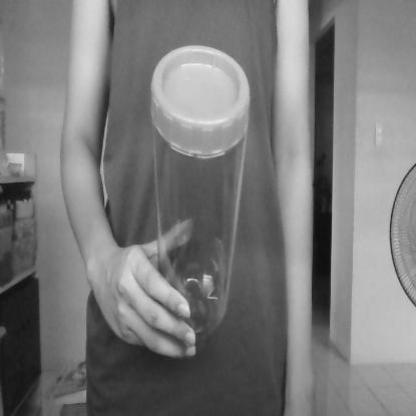Plastic Bottle: (149, 42, 250, 356)
